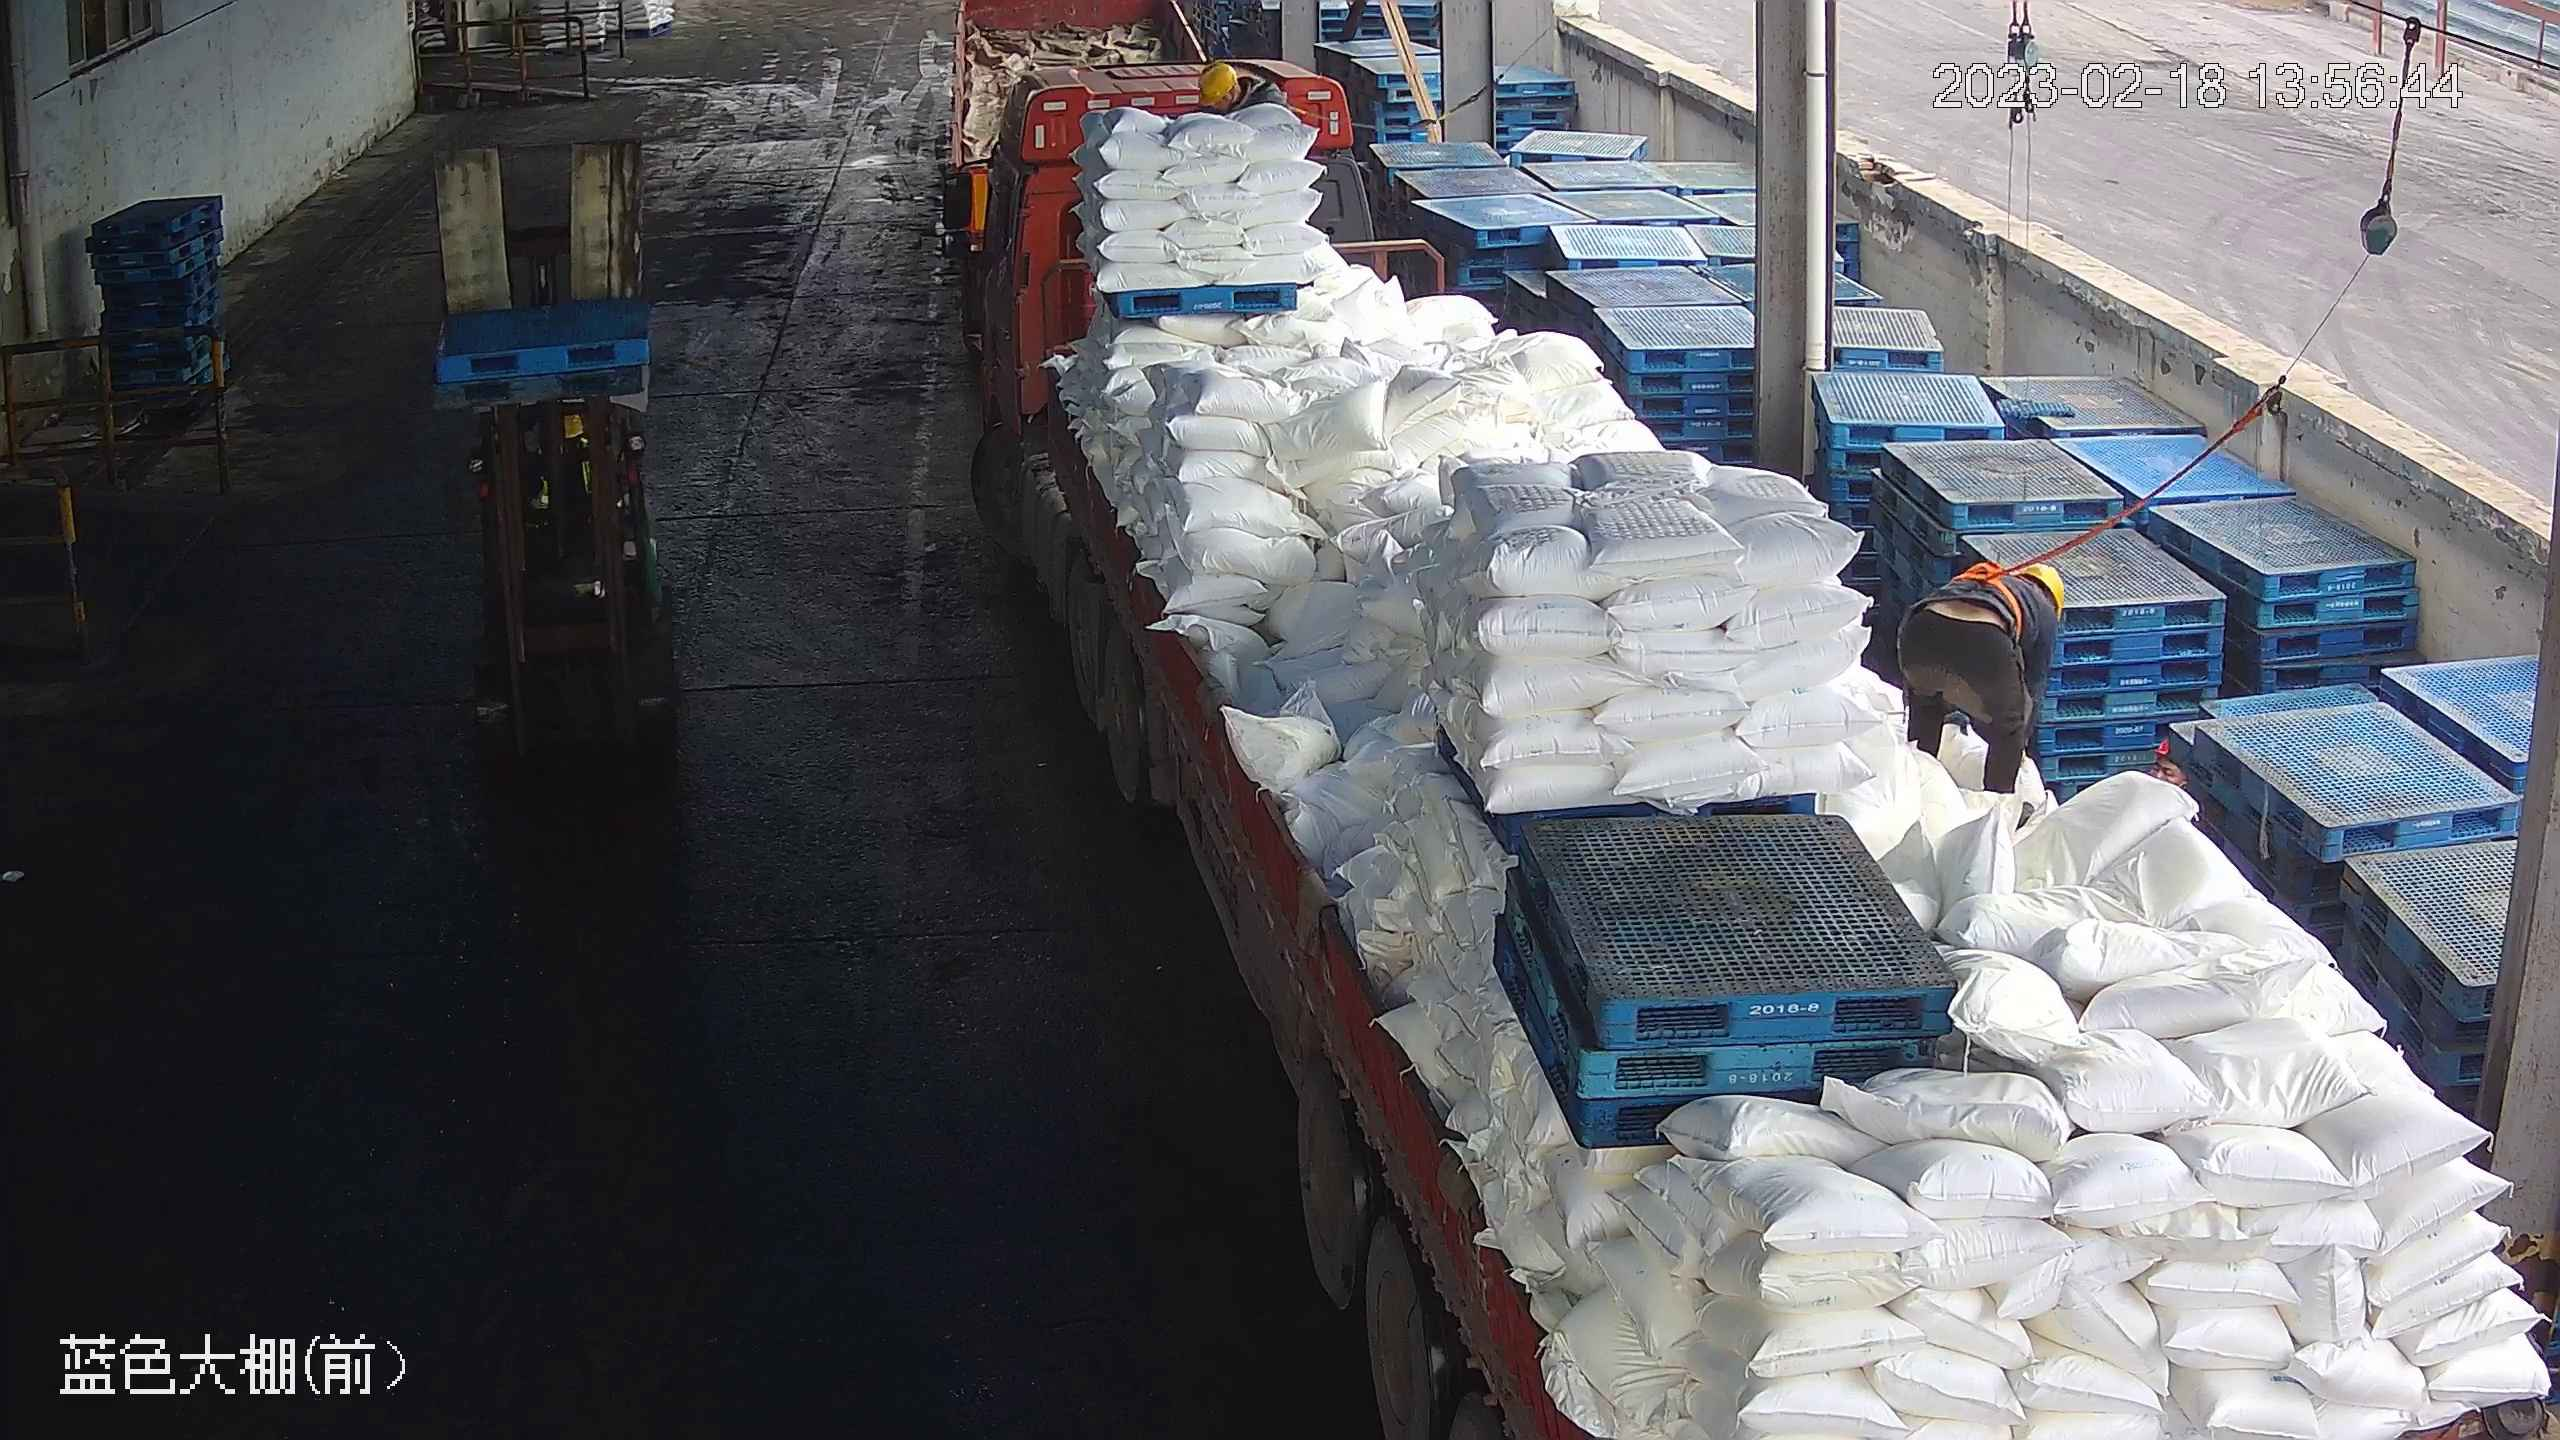belt: (1945, 555, 2032, 632)
head: (1960, 548, 2069, 623)
helmet: (2022, 559, 2068, 618), (1198, 56, 1242, 103)
people: (1892, 552, 2074, 824)
truck: (941, 53, 2559, 1440)
